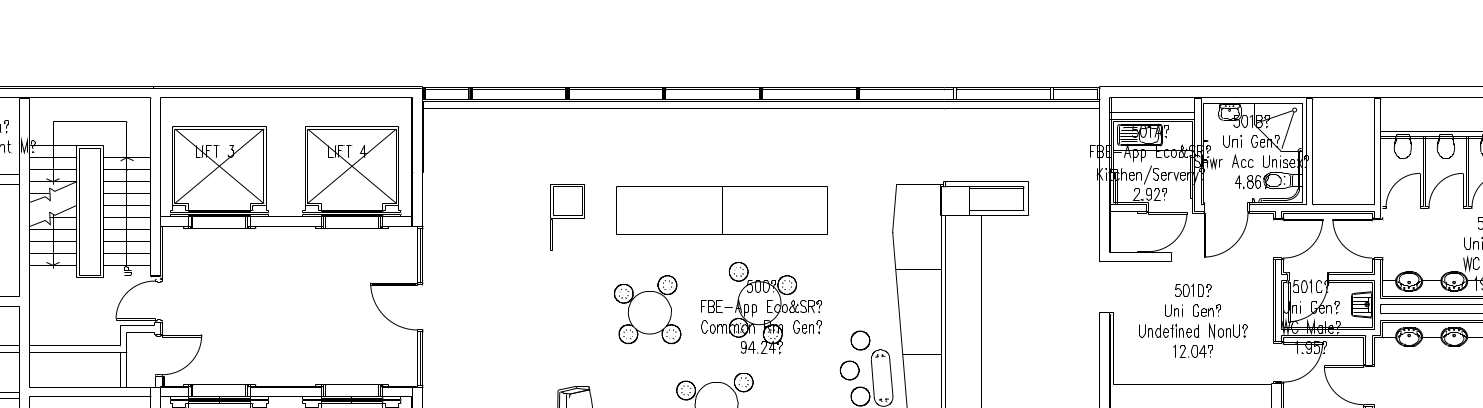door: (1201, 209, 1249, 269), (365, 278, 416, 334), (1320, 356, 1372, 408), (1278, 339, 1330, 391), (113, 274, 160, 324), (157, 328, 204, 378), (1139, 207, 1186, 257), (1278, 216, 1324, 266), (1332, 216, 1378, 266), (1382, 165, 1421, 217), (1425, 166, 1464, 218)
